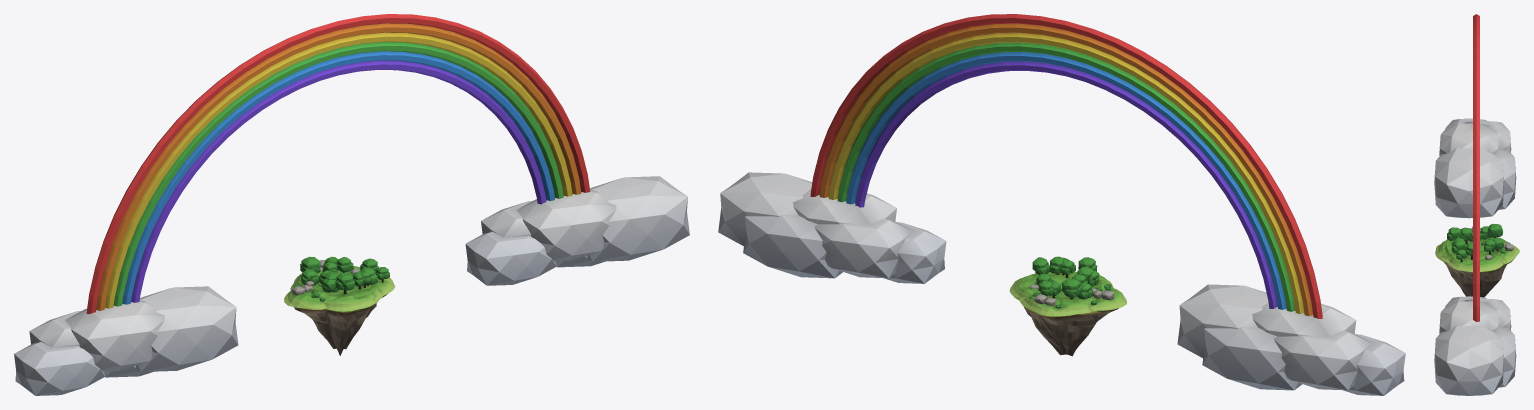
The model's file is isle-meadow-CJZDPF5-.glb.
The picture shows the model from 3 angles, left to right: view 1: azimuth 30°, elevation 25°; view 2: azimuth 150°, elevation 25°; view 3: azimuth 270°, elevation 25°; orthographic projection. The views are drawn at different scales.
Parts seen in each view (by area): view 1: far, isle_2, isle_1, isle_0; view 2: far, isle_2, isle_1, isle_0; view 3: far, isle_2, isle_1, isle_0.
Boxes of the visible parts, left/top/right/bottom form: far: left=14, top=14, right=689, bottom=395; isle_2: left=290, top=257, right=379, bottom=355; isle_1: left=284, top=256, right=395, bottom=324; isle_0: left=300, top=256, right=383, bottom=301; far: left=718, top=14, right=1405, bottom=395; isle_2: left=1020, top=257, right=1113, bottom=356; isle_1: left=1009, top=257, right=1126, bottom=327; isle_0: left=1017, top=256, right=1099, bottom=309; far: left=1434, top=14, right=1516, bottom=395; isle_2: left=1435, top=227, right=1519, bottom=297; isle_1: left=1445, top=224, right=1504, bottom=283; isle_0: left=1440, top=226, right=1509, bottom=264.
Size of the model in its own units: 686 by 330 by 95.38.
